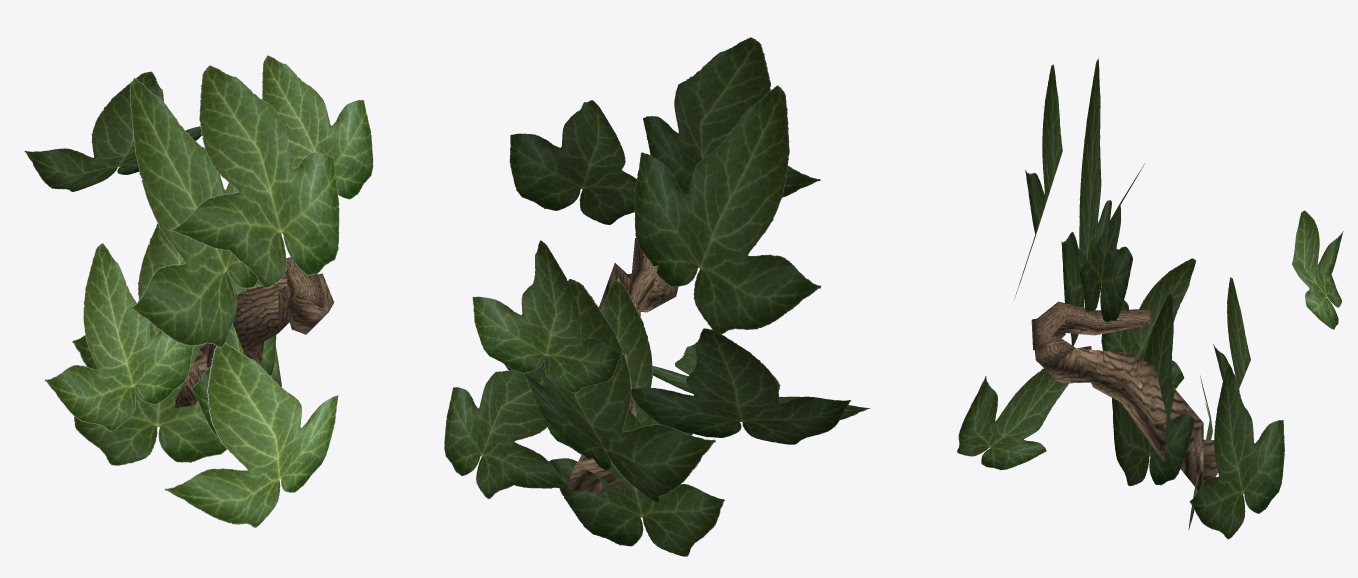
Rendered from tree 1.fbx.
The picture shows the model from 3 angles, left to right: view 1: azimuth 30°, elevation 25°; view 2: azimuth 150°, elevation 25°; view 3: azimuth 270°, elevation 25°; orthographic projection. The views are drawn at different scales.
Parts seen in each view (by area): view 1: polySurface49; view 2: polySurface49; view 3: polySurface49.
Part boxes in pixels (x1=…): polySurface49: x1=24, y1=55, x2=373, y2=528; polySurface49: x1=444, y1=37, x2=870, y2=556; polySurface49: x1=957, y1=58, x2=1343, y2=539.
Size of the model in its own units: 335 by 408 by 335.
